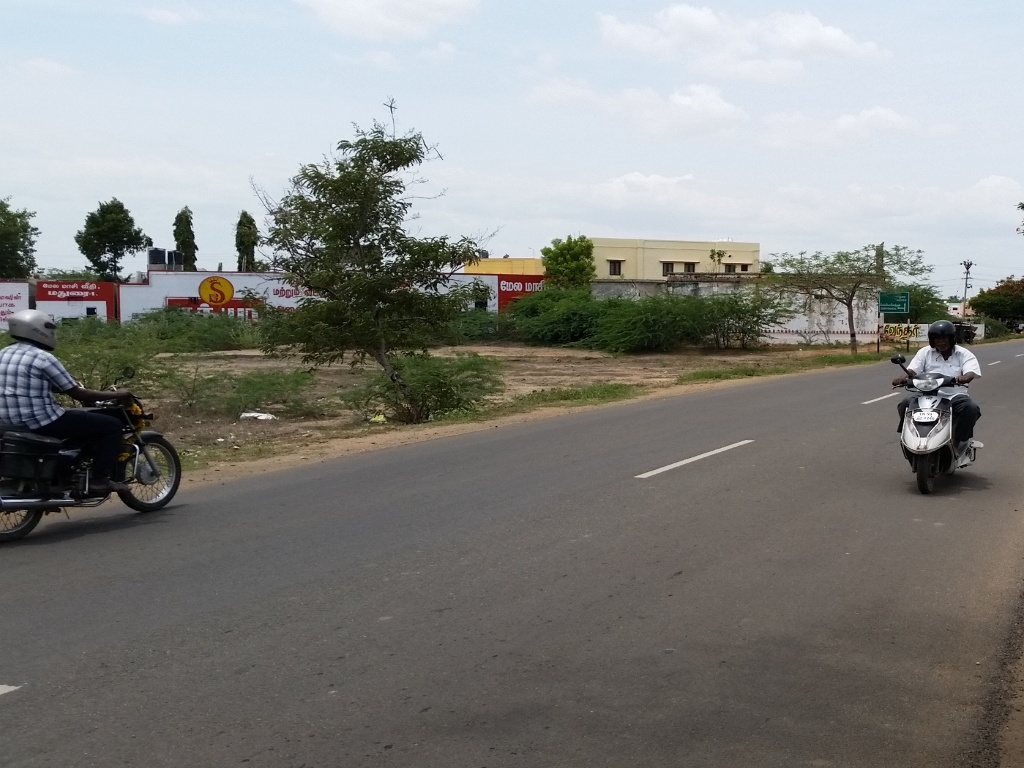biker: (1, 275, 198, 562), (871, 291, 1011, 502)
helmet: (5, 296, 67, 363), (923, 308, 965, 362)
